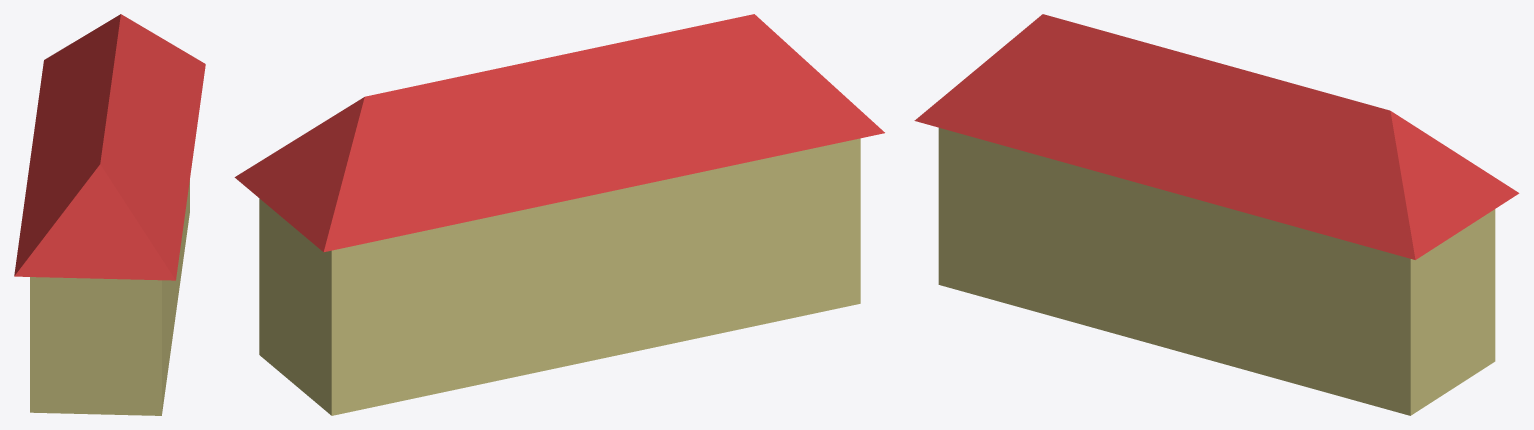
The picture shows the model from 3 angles, left to right: view 1: azimuth 30°, elevation 25°; view 2: azimuth 150°, elevation 25°; view 3: azimuth 270°, elevation 25°; orthographic projection. The views are drawn at different scales.
Visible parts, largest first — view 1: group_3, group_5, group_4; view 2: group_5, group_3, group_4; view 3: group_5, group_3, group_4.
Part boxes in pixels (box(x1,y1,x2,y2)): group_3: box(14, 14, 205, 280); group_5: box(30, 180, 189, 415); group_4: box(37, 52, 175, 280); group_5: box(259, 138, 860, 415); group_3: box(234, 14, 884, 251); group_4: box(235, 177, 583, 251); group_5: box(938, 128, 1495, 415); group_3: box(915, 14, 1494, 259); group_4: box(914, 100, 1518, 259).
Bounding box in the file's own units: 27.81 × 34.49 × 16.42.
